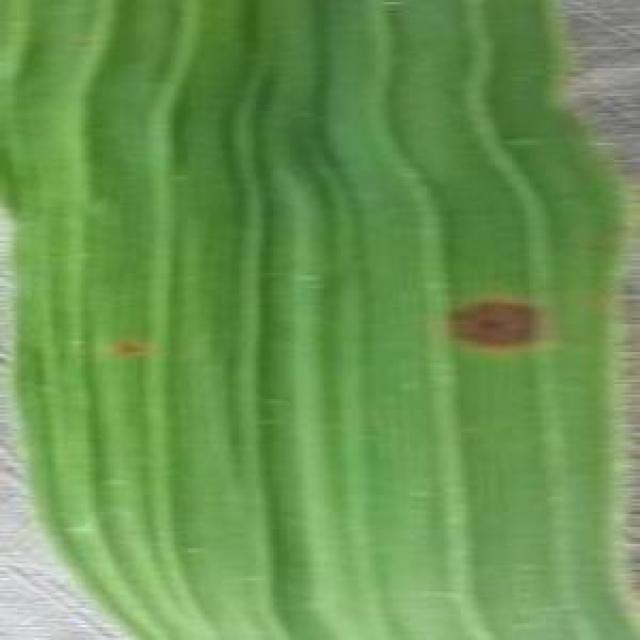Brown_Spot: (447, 287, 548, 354), (106, 339, 141, 377)
